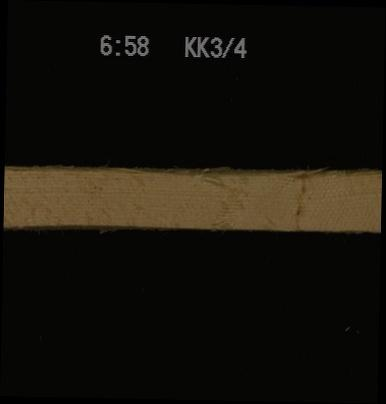small_knot: (286, 177, 323, 228)
